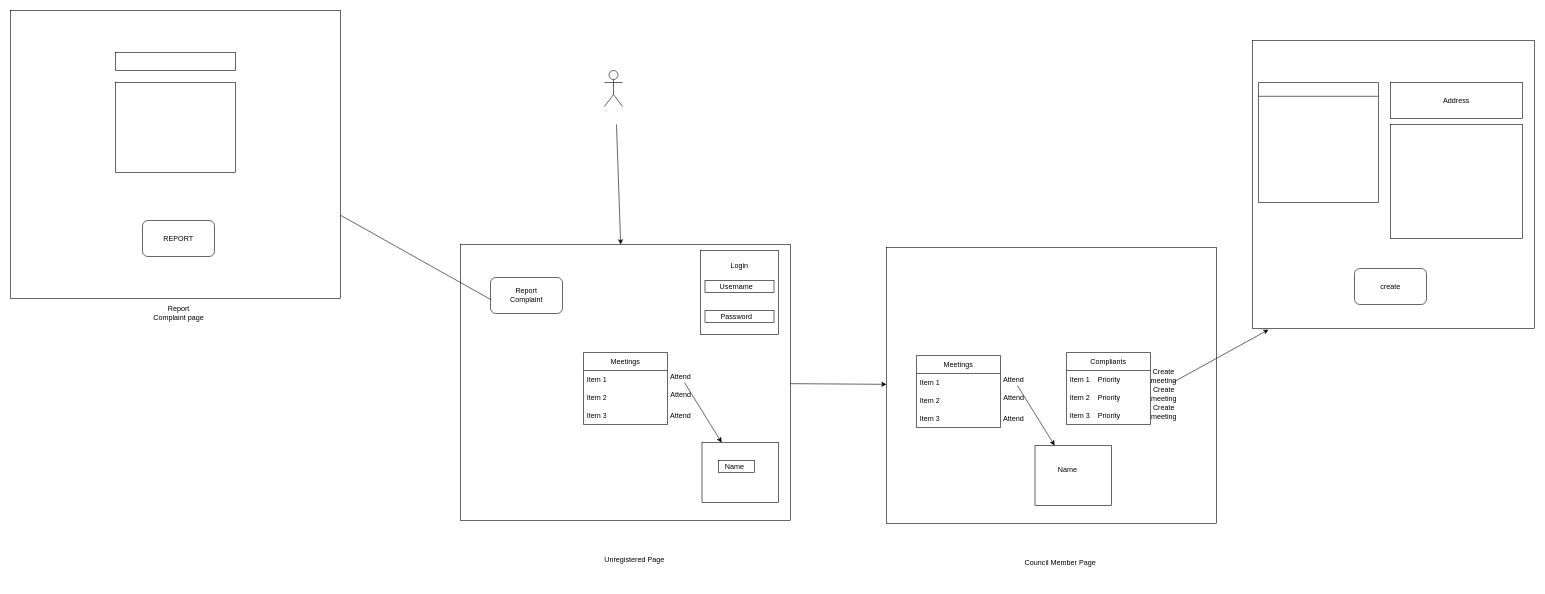
Some shapes in this 1545 by 594 pixel diagram are drawn without their labels. The centre of each missing label's shape, as x and y in pixels:
Actor: point (613, 88)
Calendar: point (1318, 142)
Description: point (175, 127)
Summary: point (1456, 181)
Title: point (175, 61)
